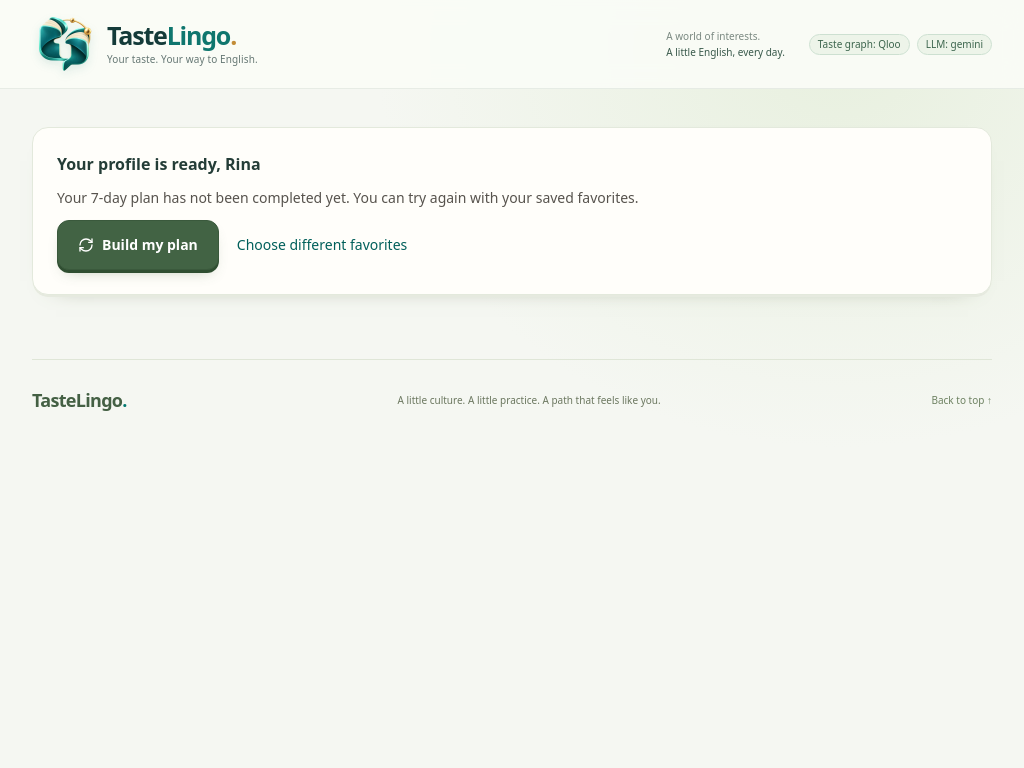
Test: demo and saved-profile lifecycle › restores a saved learner with no plan as a retryable normal state
This screenshot has width=1024, height=768.
Click the button "Build my plan" at point(138, 245), box [57,220,219,270]
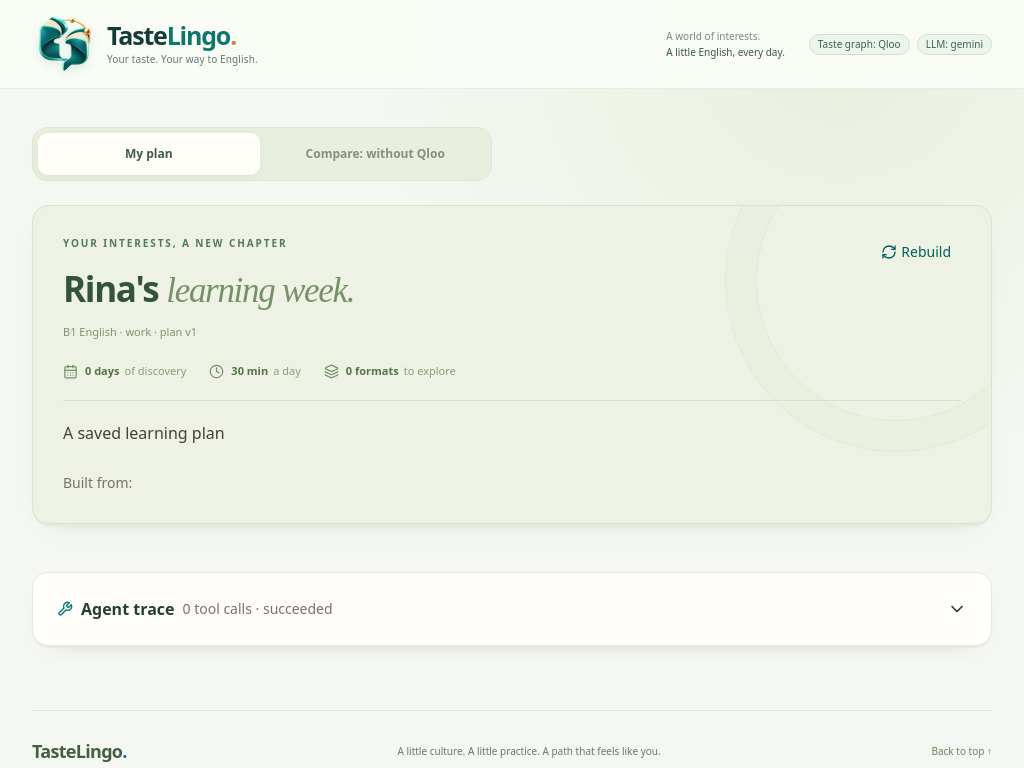
Expected: the text "A saved learning plan" is shown, [63,422,225,444]
